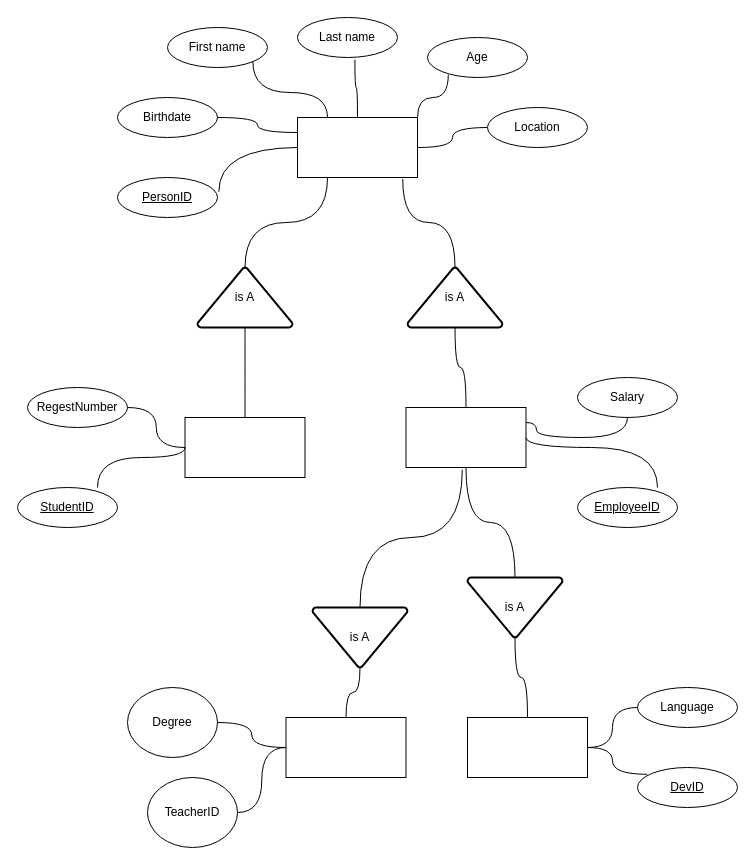
Image size: 755x865. Some labels were removed from this diagram. Here are the shapes that lost their labels. From the top down, the box of each, then its label:
(296, 116, 418, 178): Person
(184, 416, 305, 478): Student
(405, 406, 526, 468): Employee
(285, 716, 406, 778): Teacher
(466, 716, 588, 778): Developer
